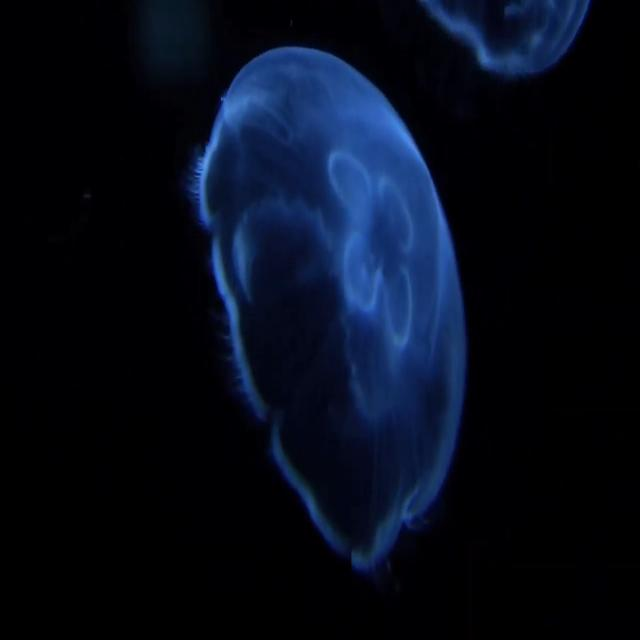Moon-jellyfish: (192, 46, 472, 598), (412, 0, 598, 83)
